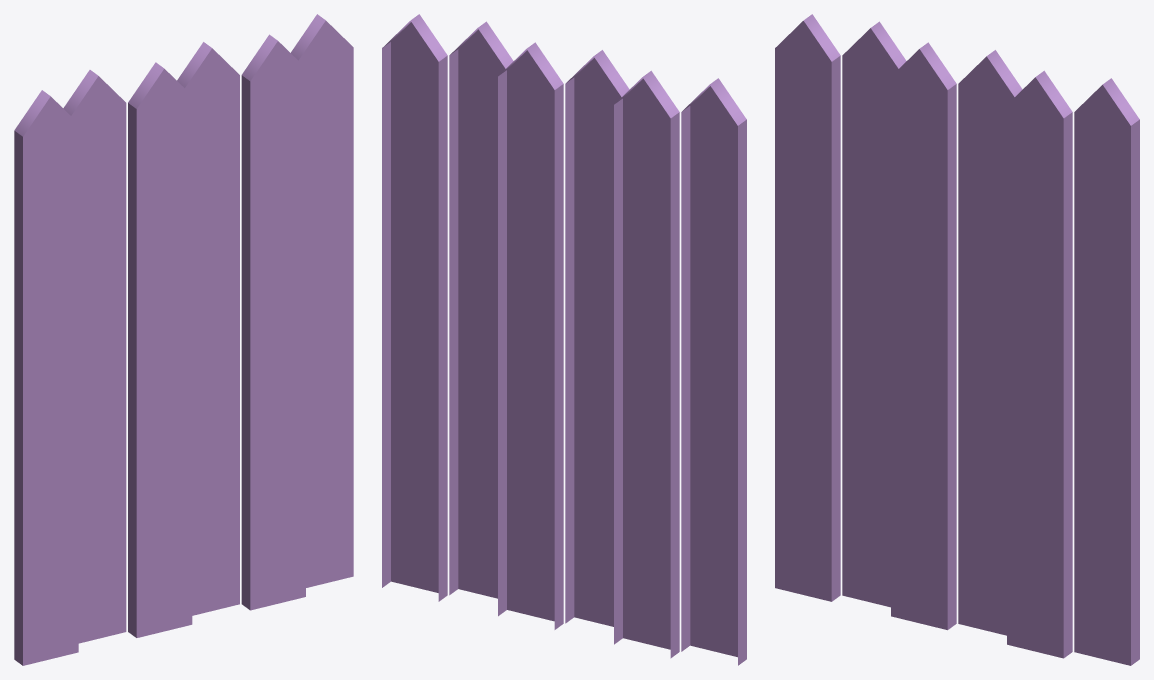
File: Fence.FBX
The picture shows the model from 3 angles, left to right: view 1: azimuth 30°, elevation 25°; view 2: azimuth 150°, elevation 25°; view 3: azimuth 330°, elevation 25°; orthographic projection. The views are drawn at different scales.
Visible parts, largest first — view 1: Fence; view 2: Fence; view 3: Fence.
Part boxes in pixels (left/top/right/bottom): Fence: left=14, top=14, right=353, bottom=665; Fence: left=382, top=14, right=746, bottom=665; Fence: left=775, top=14, right=1139, bottom=665.
Size of the model in its own units: 126 by 200 by 11.41.
